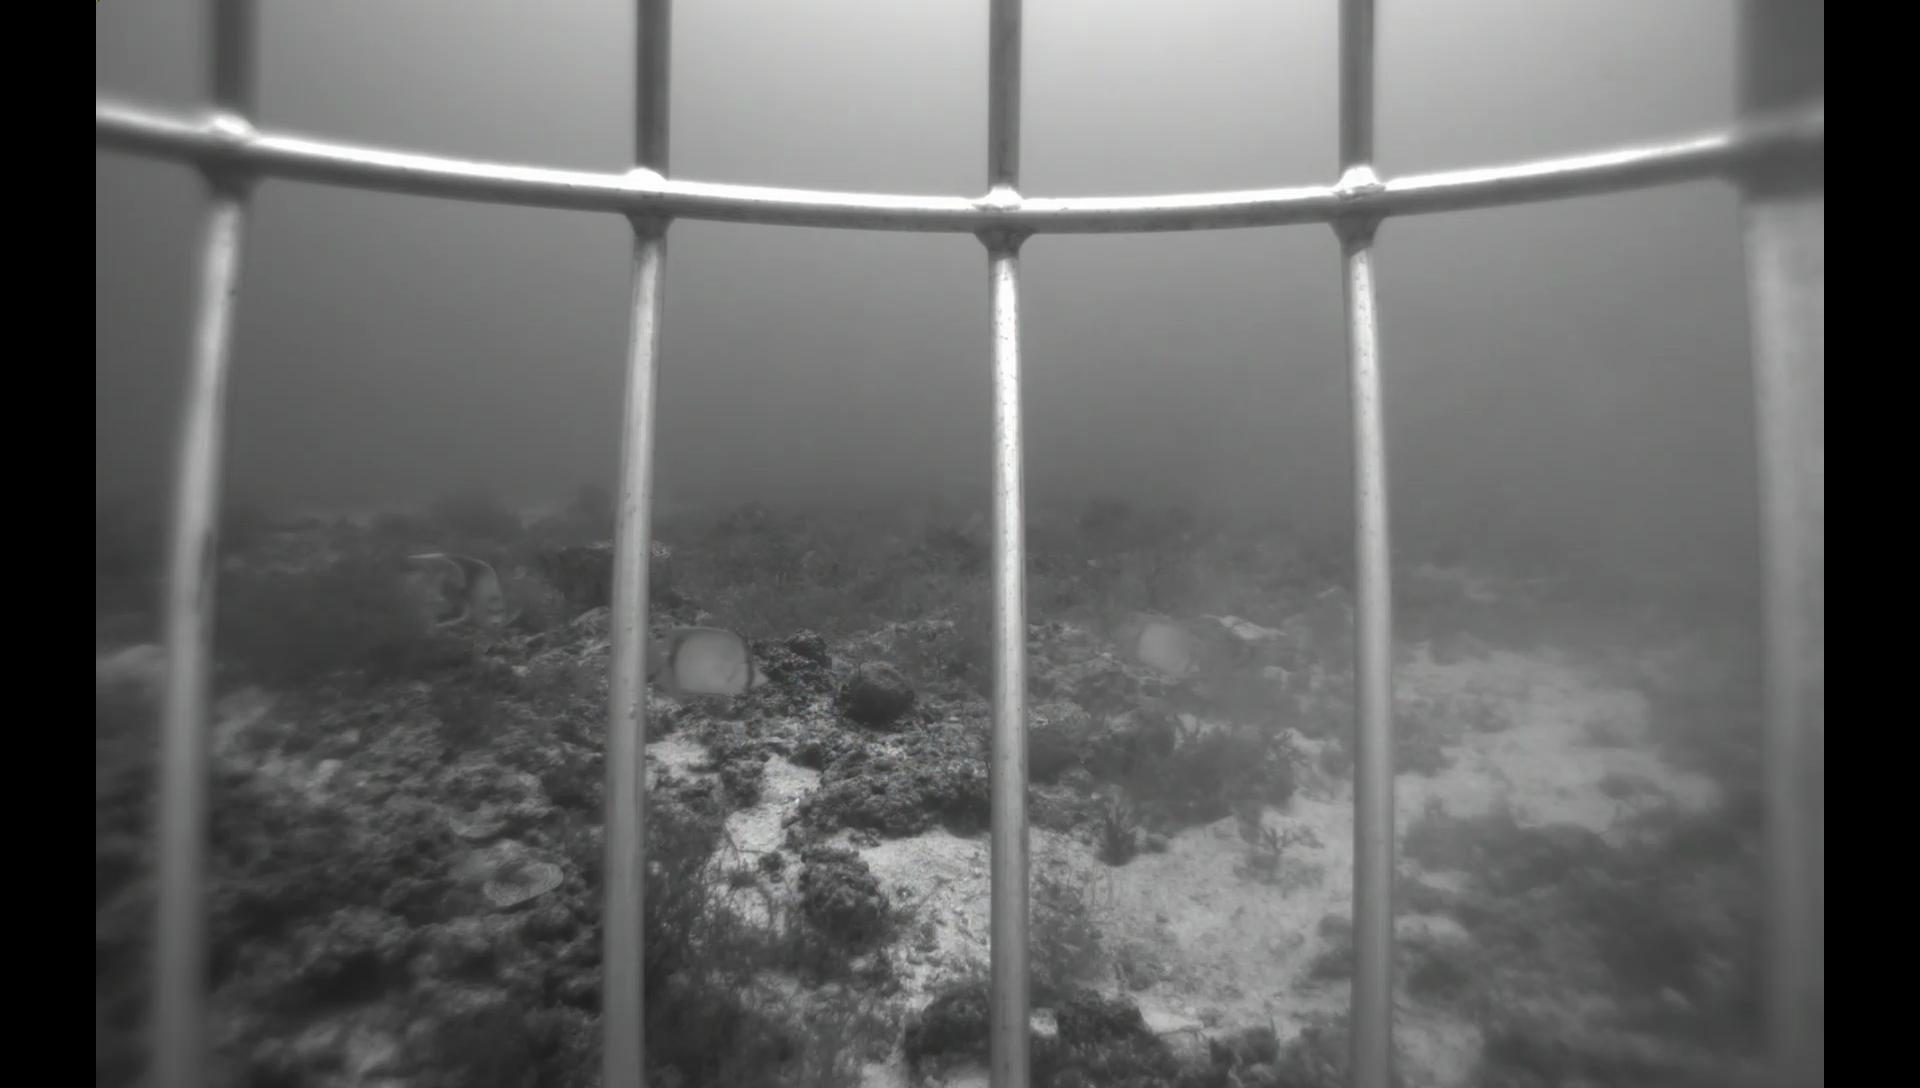CHAETODONOCELLATUS-170260307: (640, 619, 782, 702), (1102, 601, 1211, 688)
HOLACANTHUSBERMUDENSIS-170290102: (388, 539, 537, 648)
MYCTEROPERCAPHENAX-170022105: (943, 497, 992, 555)
